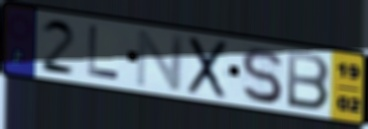2: (36, 18, 79, 78)
B: (285, 49, 332, 114)
L: (86, 23, 122, 83)
N: (133, 28, 187, 92)
S: (238, 45, 285, 105)
X: (185, 35, 231, 101)
